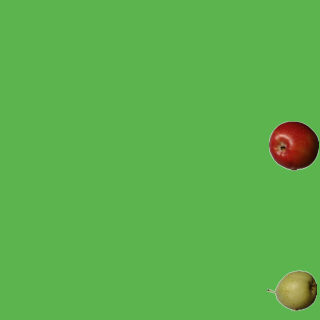Apple Braeburn: (268, 120, 318, 170)
Pear: (266, 265, 316, 315)
